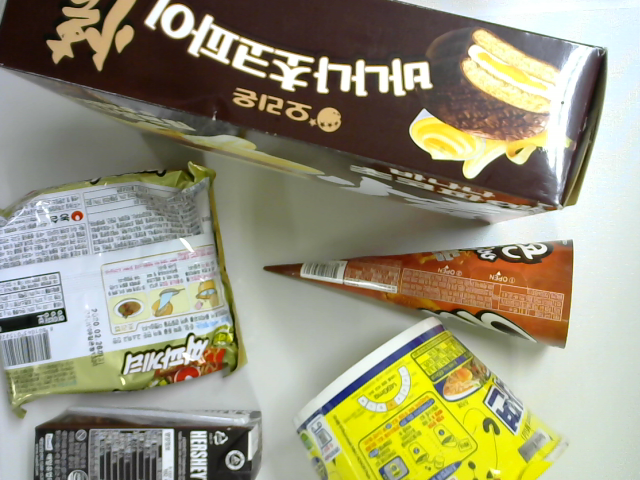Choco_Pie_Banana: (1, 1, 611, 227)
GooGoo_Cone_CVS: (260, 239, 575, 349)
Hush_Choco_Drink: (33, 402, 267, 480)
Jinlamyeon_Mild_Taste_Large_Cup: (295, 315, 570, 480)
Olive_Chapaghetti: (1, 159, 251, 418)
